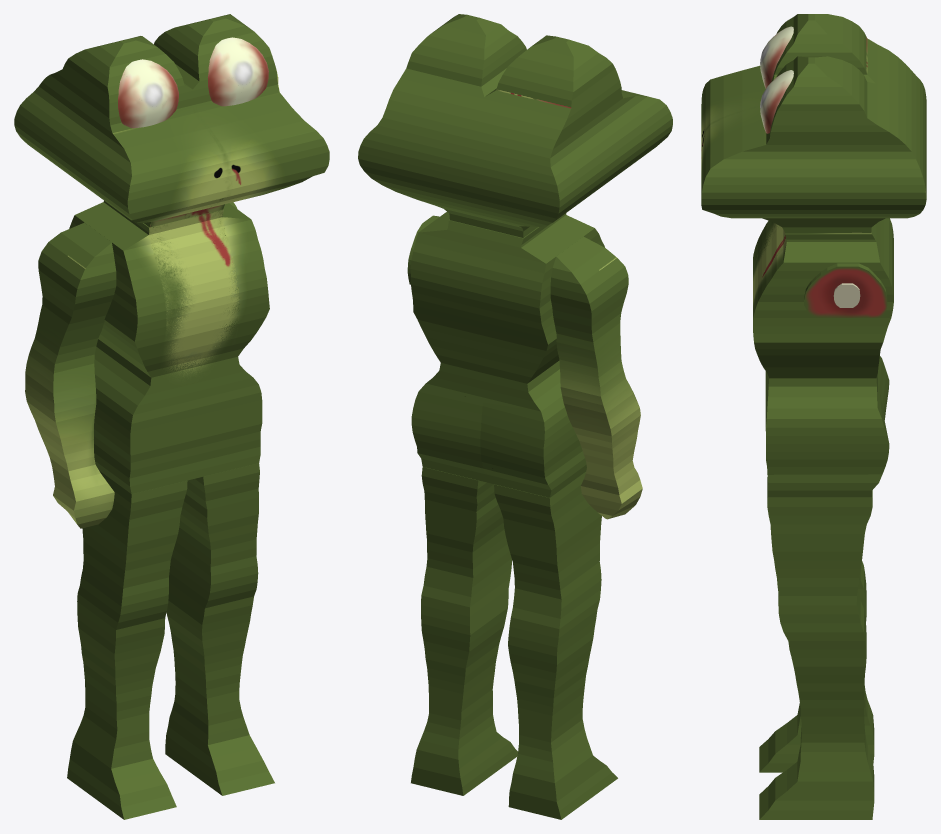
Rendered from LittleZombieFrogMan.fbx.
3 renders of one model, left to right at view 1: azimuth 30°, elevation 25°; view 2: azimuth 150°, elevation 25°; view 3: azimuth 270°, elevation 25°, orthographic.
Visible parts, largest first — view 1: Legs, Body, Head, Arms.002, Eye Left, Eye Left.001; view 2: Legs, Head, Body, Arms.002; view 3: Head, Body, Legs, Severed Arm, Eye Left.001, Eye Left, Bone.
Boxes of the visible parts, box(x1,y1,x2,y2) form: Legs: box(67, 463, 274, 819); Body: box(69, 200, 269, 493); Head: box(14, 14, 329, 227); Arms.002: box(25, 222, 116, 528); Eye Left: box(118, 59, 178, 128); Eye Left.001: box(207, 37, 268, 106); Legs: box(411, 467, 617, 819); Head: box(358, 14, 672, 237); Body: box(410, 212, 604, 497); Arms.002: box(550, 236, 642, 519); Head: box(701, 14, 926, 233); Body: box(753, 218, 893, 497); Legs: box(759, 477, 874, 819); Severed Arm: box(804, 263, 887, 317); Eye Left.001: box(760, 70, 793, 133); Eye Left: box(760, 26, 793, 88); Bone: box(833, 283, 860, 307).
Size of the model in its own units: 141 by 458 by 126.
Materials: 7 (7 with a texture image).
